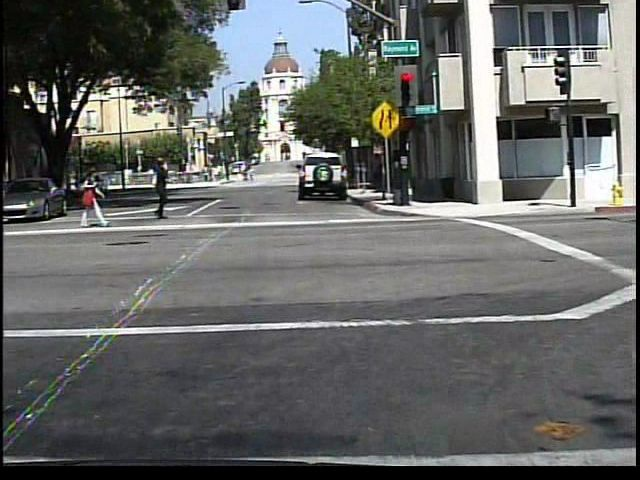person: (139, 158, 177, 222), (72, 162, 106, 230), (246, 167, 257, 186), (238, 167, 248, 185)
